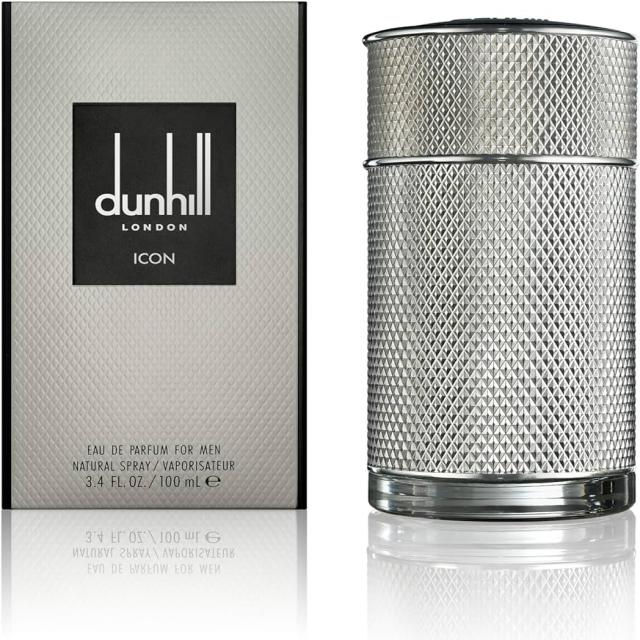dunhill: (2, 0, 314, 520)
